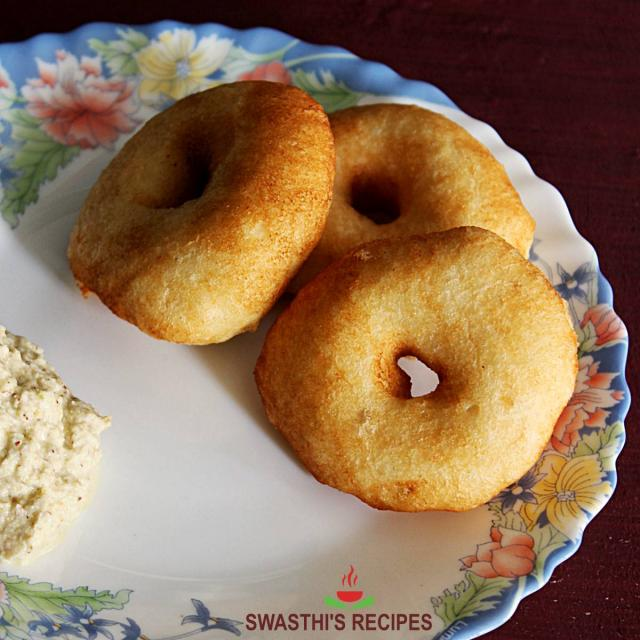Vada: (272, 230, 587, 496), (75, 77, 336, 355), (284, 103, 538, 290)
